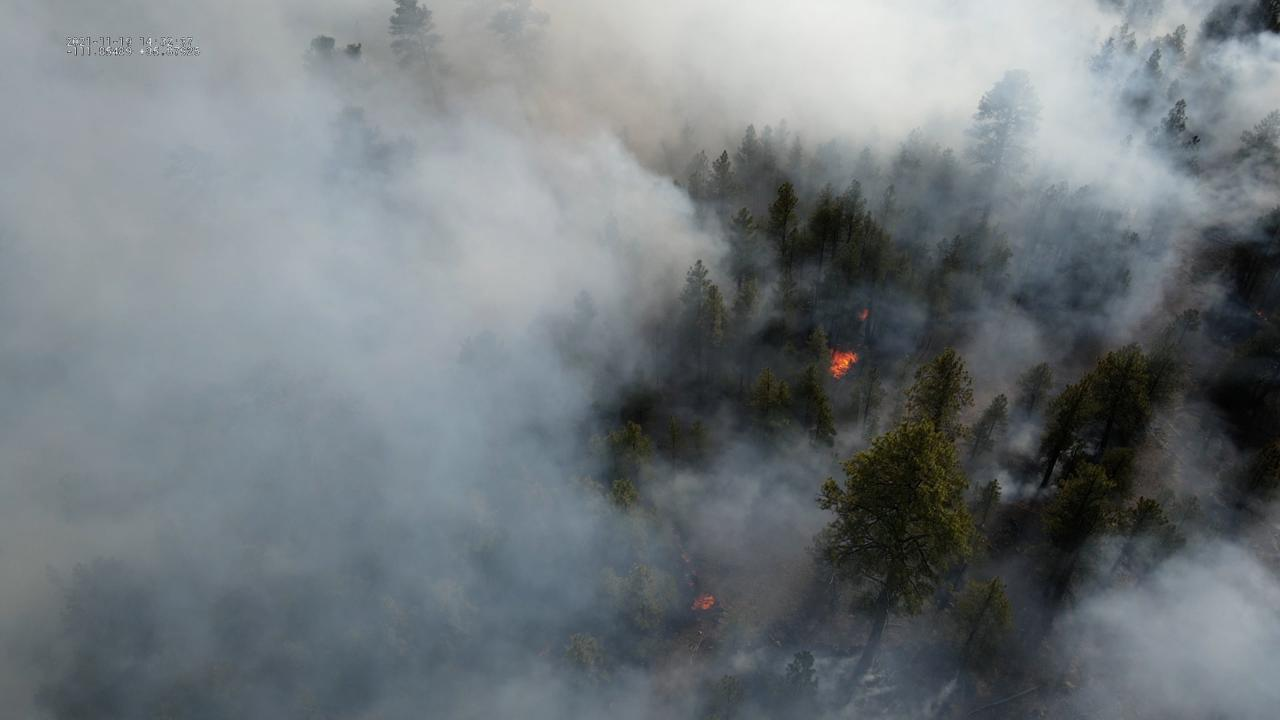fire: (824, 347, 859, 382), (689, 591, 716, 612), (857, 307, 870, 324)
smoke: (0, 0, 1280, 720)
